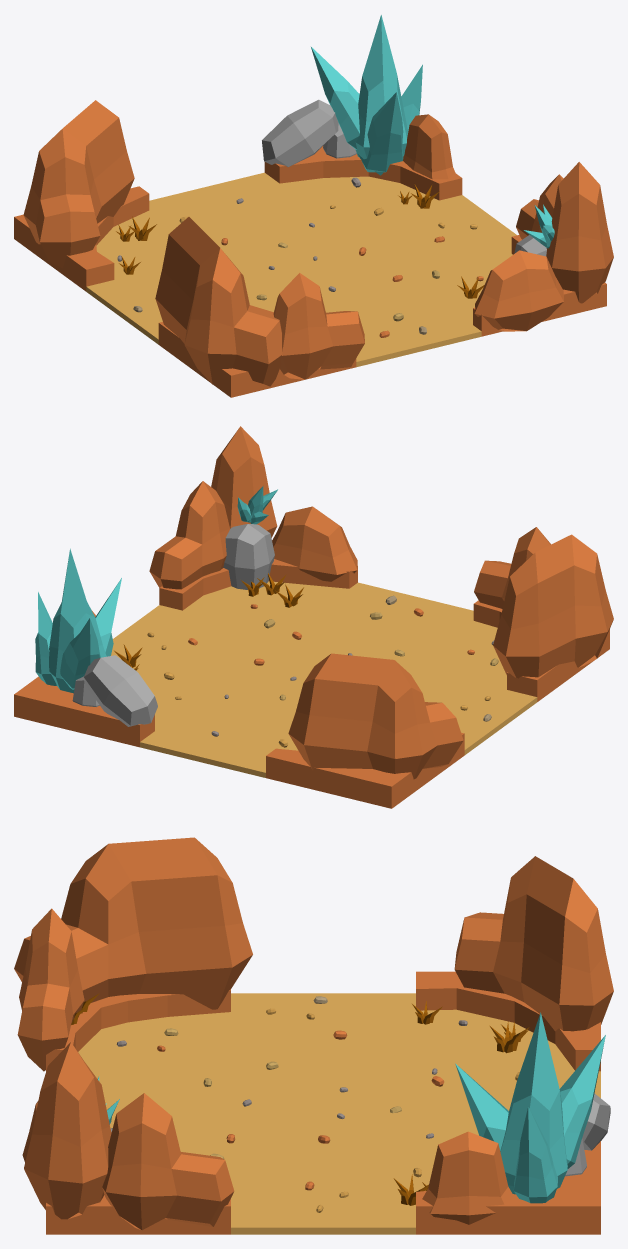
The model's file is cave level set - 4 Way.fbx.
The picture shows the model from 3 angles, top to bottom: view 1: azimuth 30°, elevation 25°; view 2: azimuth 150°, elevation 25°; view 3: azimuth 270°, elevation 25°; orthographic projection. The views are drawn at different scales.
Parts seen in each view (by area): view 1: land_platform_001, Cube_003, Cube_004, Cube_001, Cube, Cube_002, Cube_005, Cube_007, Cube_006, Cube_009; view 2: land_platform_001, Cube_004, Cube_003, Cube_001, Cube_009, Cube, Cube_005, Cube_007, Cube_008, Cube_002; view 3: land_platform_001, Cube_003, Cube_004, Cube_001, Cube_009, Cube, Cube_002, Cube_006, Cube_007.
Boxes of the visible parts, left/top/right/bottom form: land_platform_001: left=14, top=146, right=606, bottom=397; Cube_003: left=155, top=217, right=282, bottom=386; Cube_004: left=23, top=100, right=134, bottom=268; Cube_001: left=311, top=15, right=422, bottom=175; Cube: left=524, top=162, right=613, bottom=303; Cube_002: left=273, top=273, right=364, bottom=379; Cube_005: left=474, top=250, right=563, bottom=331; Cube_007: left=262, top=99, right=356, bottom=167; Cube_006: left=403, top=114, right=455, bottom=179; Cube_009: left=516, top=174, right=563, bottom=239; land_platform_001: left=14, top=559, right=609, bottom=808; Cube_004: left=288, top=653, right=463, bottom=779; Cube_003: left=493, top=534, right=613, bottom=678; Cube_001: left=35, top=548, right=121, bottom=693; Cube_009: left=149, top=481, right=229, bottom=589; Cube: left=211, top=426, right=277, bottom=537; Cube_005: left=272, top=506, right=357, bottom=581; Cube_007: left=72, top=655, right=157, bottom=726; Cube_008: left=223, top=524, right=274, bottom=589; Cube_002: left=474, top=527, right=550, bottom=608; land_platform_001: left=46, top=971, right=600, bottom=1234; Cube_003: left=14, top=837, right=252, bottom=1009; Cube_004: left=454, top=856, right=613, bottom=1031; Cube_001: left=455, top=1012, right=605, bottom=1203; Cube_009: left=102, top=1093, right=234, bottom=1230; Cube: left=24, top=1042, right=119, bottom=1219; Cube_002: left=17, top=908, right=84, bottom=1071; Cube_006: left=422, top=1131, right=513, bottom=1224; Cube_007: left=565, top=1093, right=610, bottom=1176.
Size of the model in its own units: 16.66 by 6.35 by 16.41.
